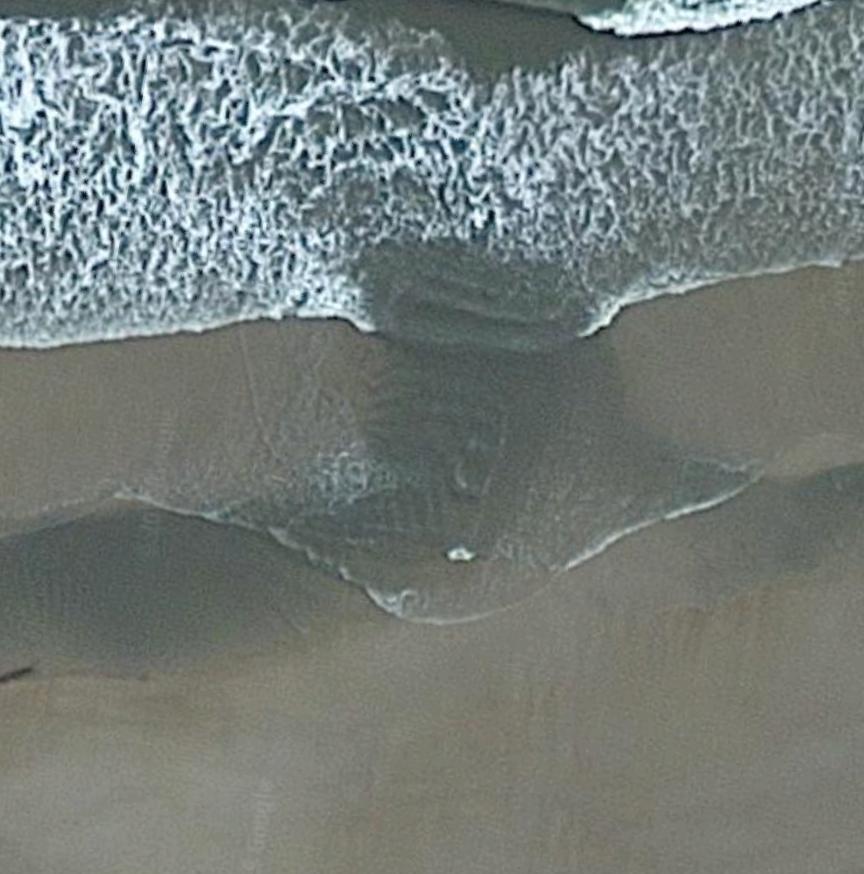rip_current: (298, 135, 679, 561)
